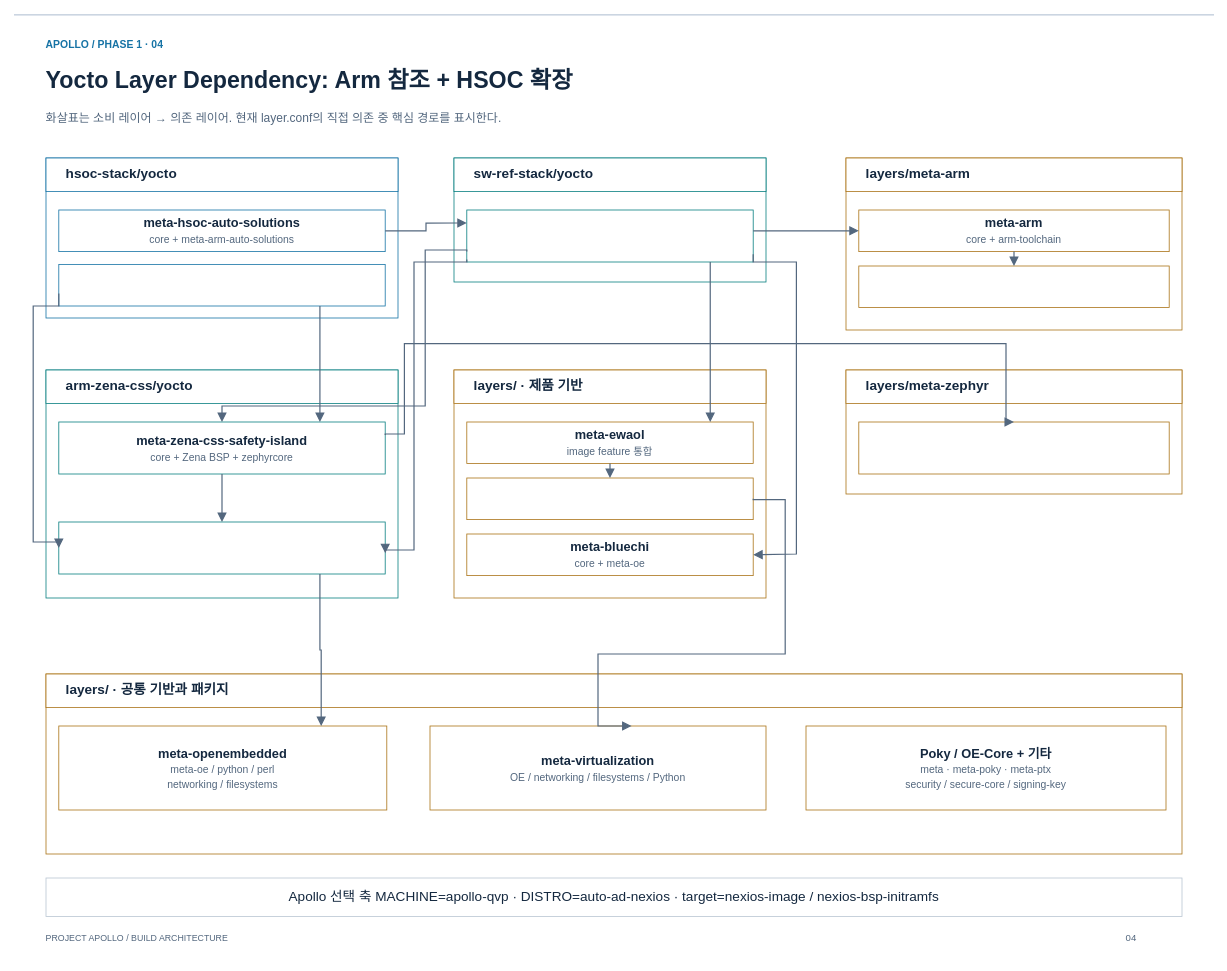
Some shapes in this 1227 by 971 pixel diagram are drawn without their labels. Here are the shapes that lost their labels. From the top down, the box of each, then its label:
(466, 209, 753, 262): meta-arm-auto-solutions BSP / SI / meta-arm / EWAOL / BlueChi
(58, 264, 385, 306): meta-hsoc-bsp core + Zena BSP + Zena SI
(858, 265, 1169, 308): meta-arm-toolchain Arm cross toolchain
(858, 421, 1169, 474): meta-zephyr-core core + meta-python
(466, 477, 753, 520): meta-cassini-distro core + yocto + virtualization
(58, 521, 385, 574): meta-zena-css-bsp core + meta-arm + OE/Python/Perl + PTX
